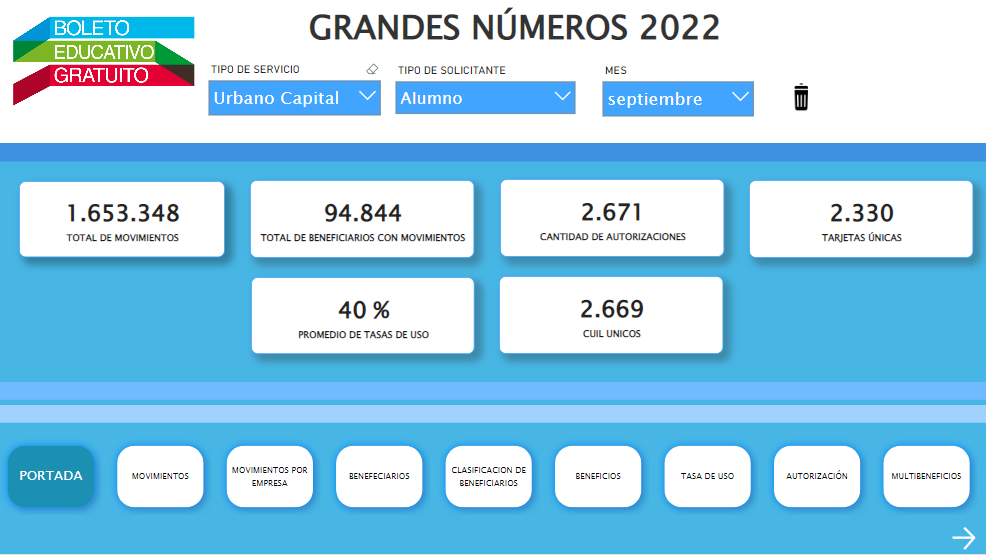

This screenshot's page, from the dashboard's own definition file:
{"tool":"powerbi","page":{"name":"PORTADA","canvas":[1280,720],"ordinal":0},"visuals":[{"type":"shape","box":[0,0,1280,199.1],"z":0},{"type":"image","box":[8.8,18.4,251.4,137.5],"z":1000},{"type":"slicer","fields":{"Values":["CLASIF SERV.TIPO DE SERVICIO"]},"box":[260.2,77.8,243.2,72.8],"z":2000},{"type":"shape","box":[0,187.3,1280,23.6],"z":3000},{"type":"shape","box":[0,496.6,1279.7,22.8],"z":4000},{"type":"shape","box":[0,527.3,1279.7,22.8],"z":5000},{"type":"textbox","box":[395.9,0,643.8,81.5],"z":6000},{"type":"slicer","fields":{"Values":["tCALENDARIO.FECHA.Variación.Jerarquía de fechas.Mes"]},"box":[772.2,79.1,216,77.6],"z":7000},{"type":"slicer","fields":{"Values":["Clasificacion.TIPO DE SOLICITANTE"]},"box":[503.4,79.8,253.2,72.8],"z":8000},{"type":"pageNavigator","box":[0,569.3,1274.5,100.7],"z":9000},{"type":"actionButton","box":[1229.8,679.7,44.7,40.3],"z":10000},{"type":"card","fields":{"Values":["MEDIAS JOACO.TOTAL DE MOV"]},"box":[24.8,235.5,267.3,99.4],"z":11000},{"type":"card","fields":{"Values":["MEDIAS JOACO.TOTAL DE BENEFICIARIOS"]},"box":[324,234.3,291.1,100.7],"z":13000},{"type":"card","fields":{"Values":["MEDIAS JOACO.PROMEDIO DE TASAS DE USO"]},"box":[325,360.9,290.1,99.7],"z":14000},{"type":"image","box":[1016.5,103.1,45.2,48],"z":15000},{"type":"card","fields":{"Values":["AutorizacionTeoricos.CUIL UNICOS"]},"box":[648,359.9,291.1,100.7],"z":17000},{"type":"card","fields":{"Values":["AutorizacionTeoricos.TARJETAS ÚNICAS"]},"box":[972,234.3,291.1,100.7],"z":18000},{"type":"card","fields":{"Values":["AutorizacionTeoricos.CANTIDAD DE AUTORIZACIONES"]},"box":[648.7,233.3,290.6,101.3],"z":19000}]}

Visuals, with their boxes in screenshot pixels (x1, y1, x2, y2), scaled from the page's 1280x720 canvas onto the 986x555 screenshot:
shape: {"x1": 0, "y1": 0, "x2": 985, "y2": 153}
image: {"x1": 7, "y1": 14, "x2": 200, "y2": 120}
slicer - CLASIF SERV.TIPO DE SERVICIO: {"x1": 200, "y1": 60, "x2": 388, "y2": 116}
shape: {"x1": 0, "y1": 144, "x2": 985, "y2": 163}
shape: {"x1": 0, "y1": 383, "x2": 985, "y2": 400}
shape: {"x1": 0, "y1": 406, "x2": 985, "y2": 424}
textbox: {"x1": 305, "y1": 0, "x2": 801, "y2": 63}
slicer - tCALENDARIO.FECHA.Variación.Jerarquía de fechas.Mes: {"x1": 595, "y1": 61, "x2": 761, "y2": 121}
slicer - Clasificacion.TIPO DE SOLICITANTE: {"x1": 388, "y1": 62, "x2": 583, "y2": 118}
pageNavigator: {"x1": 0, "y1": 439, "x2": 982, "y2": 516}
actionButton: {"x1": 947, "y1": 524, "x2": 982, "y2": 554}
card - MEDIAS JOACO.TOTAL DE MOV: {"x1": 19, "y1": 182, "x2": 225, "y2": 258}
card - MEDIAS JOACO.TOTAL DE BENEFICIARIOS: {"x1": 250, "y1": 181, "x2": 474, "y2": 258}
card - MEDIAS JOACO.PROMEDIO DE TASAS DE USO: {"x1": 250, "y1": 278, "x2": 474, "y2": 355}
image: {"x1": 783, "y1": 79, "x2": 818, "y2": 116}
card - AutorizacionTeoricos.CUIL UNICOS: {"x1": 499, "y1": 277, "x2": 723, "y2": 355}
card - AutorizacionTeoricos.TARJETAS ÚNICAS: {"x1": 749, "y1": 181, "x2": 973, "y2": 258}
card - AutorizacionTeoricos.CANTIDAD DE AUTORIZACIONES: {"x1": 500, "y1": 180, "x2": 724, "y2": 258}
